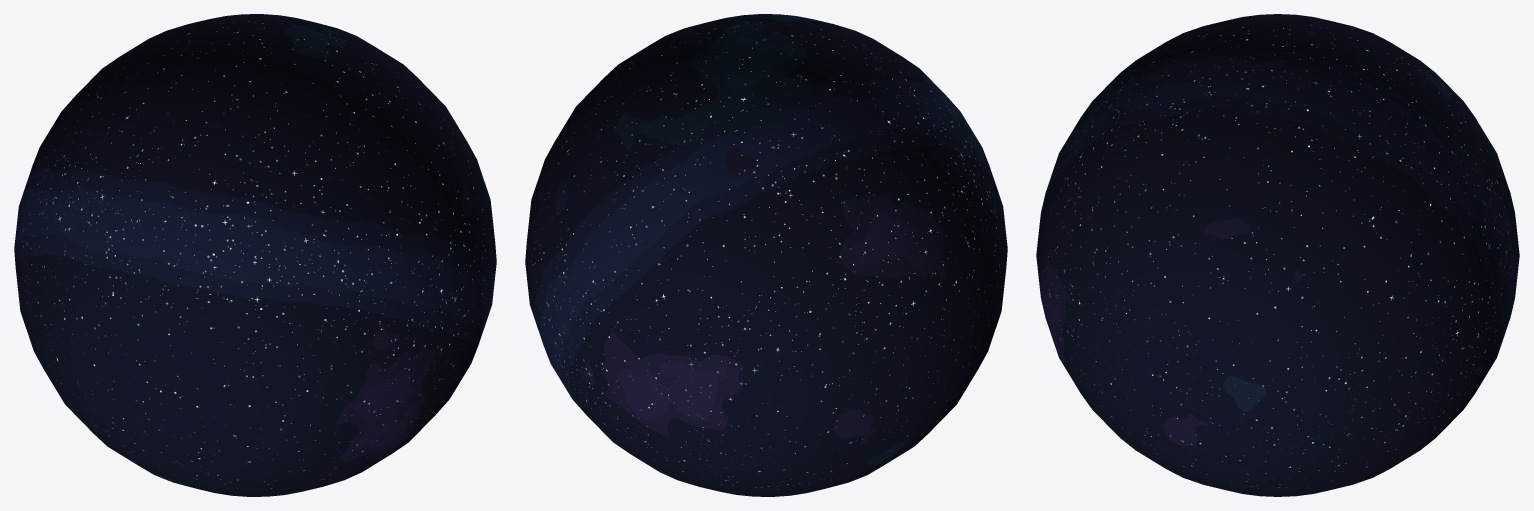
File: starfield.glb
3 views of the same model, side by side, from view 1: azimuth 30°, elevation 25°; view 2: azimuth 150°, elevation 25°; view 3: azimuth 270°, elevation 25° (orthographic).
Visible parts, largest first — view 1: starfield_dome, starfield_stars; view 2: starfield_dome, starfield_stars; view 3: starfield_dome, starfield_stars.
Part boxes in pixels (x1=…): starfield_dome: x1=14, y1=14, x2=496, y2=496; starfield_stars: x1=22, y1=21, x2=489, y2=488; starfield_dome: x1=525, y1=14, x2=1007, y2=496; starfield_stars: x1=532, y1=22, x2=1000, y2=489; starfield_dome: x1=1036, y1=14, x2=1519, y2=496; starfield_stars: x1=1045, y1=25, x2=1510, y2=488.
Bounding box in the file's own units: 1112 × 1112 × 1112.
2 materials, 1 textured.
